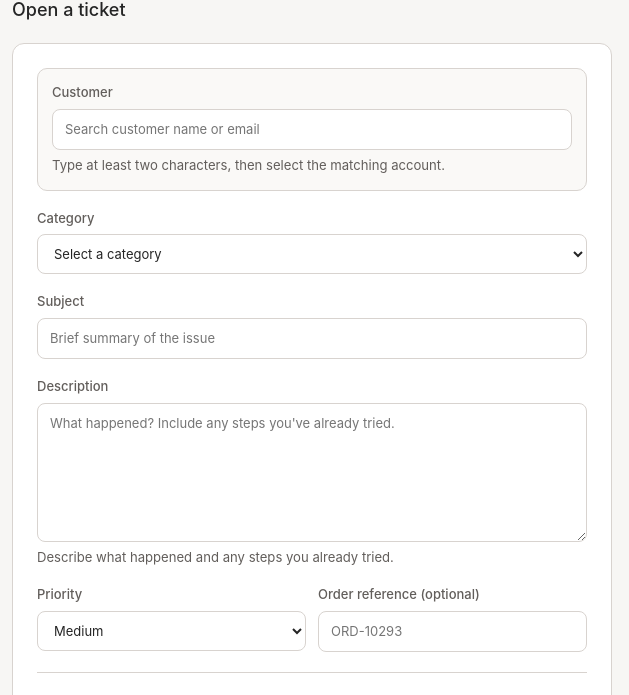
Test: TicketCreate › requires staff to select a customer before creating
This screenshot has width=629, height=695.
Select "Order" in the dropdown labelled "Category" at x=312, y=254, box [37,234,587,274]
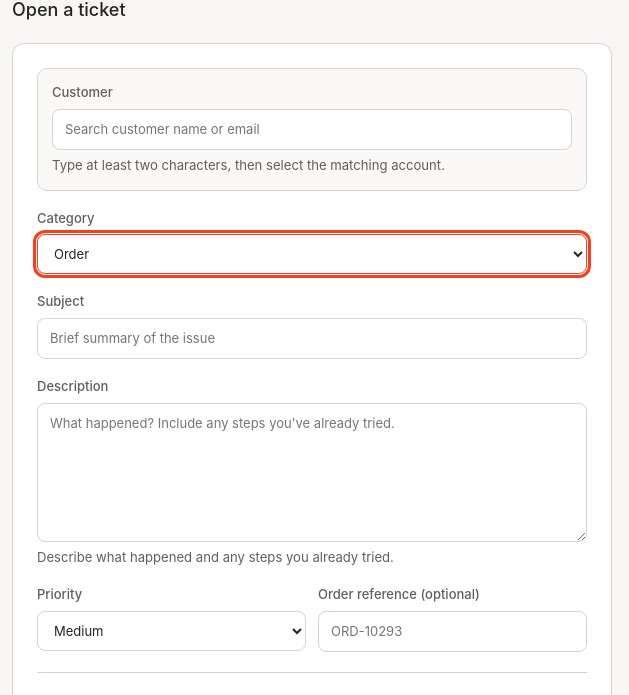
Type "Order question" into the field labelled "Subject" at x=312, y=339, box [37,318,587,359]
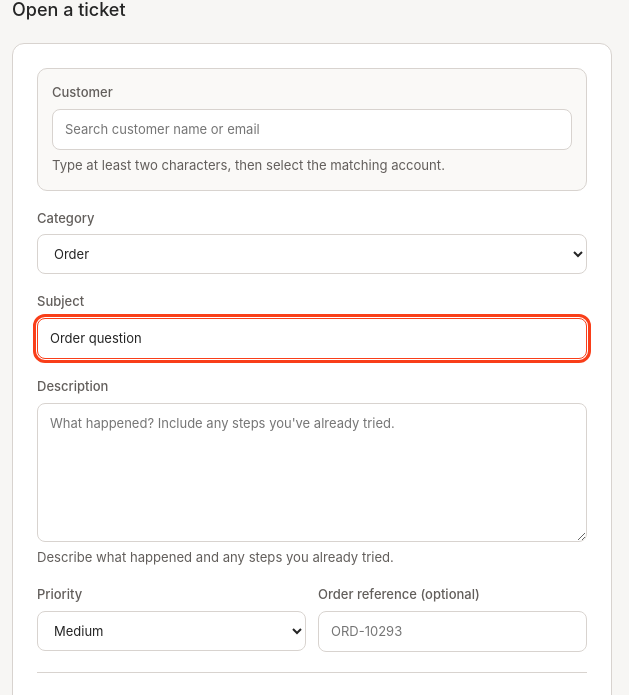
Type "Please check my order." into the text box labelled "Description" at x=312, y=472, box [37,403,587,542]
(page scrolled)
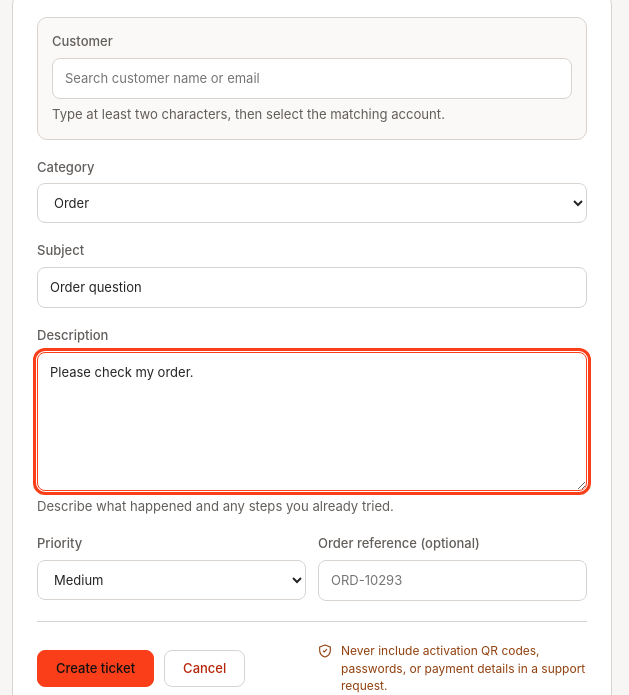
Click the button "Create ticket" at x=96, y=669, box [37,650,154,687]
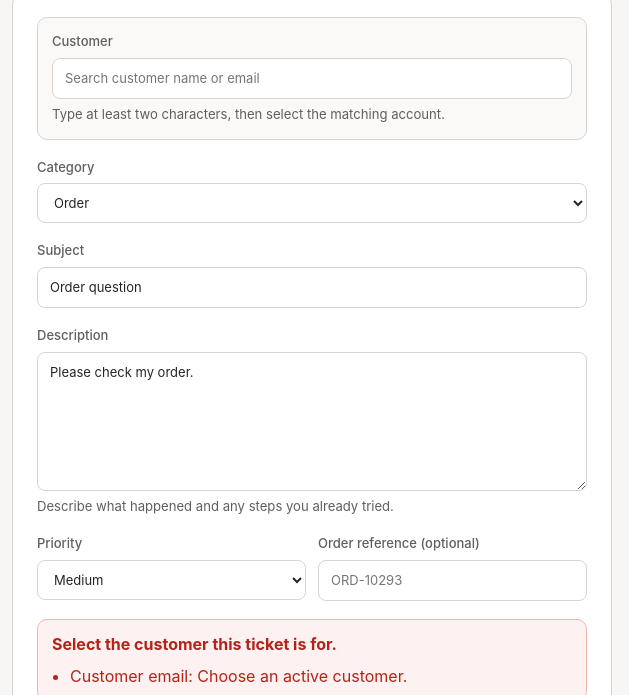
Result: the text "Select the customer this ticket is for." is shown at [52,634,337,654]
